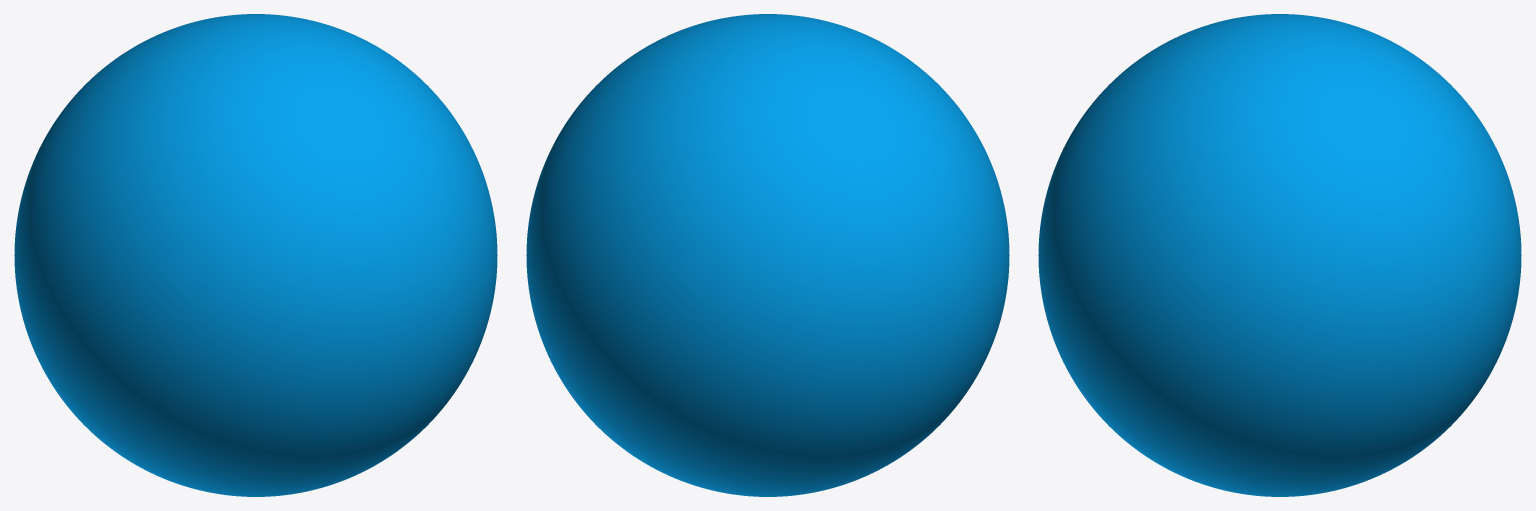
3 views of the same model, side by side, from view 1: azimuth 30°, elevation 25°; view 2: azimuth 150°, elevation 25°; view 3: azimuth 270°, elevation 25° (orthographic).
Parts seen in each view (by area): view 1: s_s; view 2: s_s; view 3: s_s.
Boxes of the visible parts, <box> form: s_s: <box>14,14,497,496</box>; s_s: <box>526,14,1009,496</box>; s_s: <box>1038,14,1521,496</box>.
Size of the model in its own units: 2 by 2 by 2.
